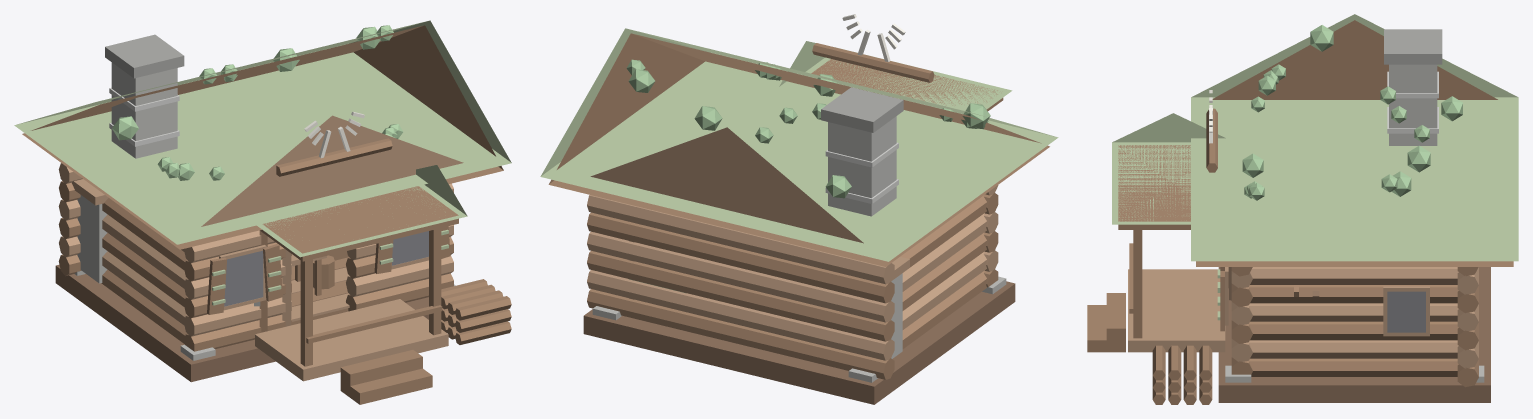
The model's file is myslivna.glb.
The picture shows the model from 3 angles, left to right: view 1: azimuth 30°, elevation 25°; view 2: azimuth 150°, elevation 25°; view 3: azimuth 270°, elevation 25°; orthographic projection. The views are drawn at different scales.
Parts seen in each view (by area): view 1: Myslivna_wood2, Myslivna_moss, Myslivna_wood, Myslivna_grey3, Myslivna_darkwood, Myslivna_dark, Myslivna_green2, Myslivna_grey4, Myslivna_grey, Myslivna_bone; view 2: Myslivna_moss, Myslivna_wood2, Myslivna_wood, Myslivna_darkwood, Myslivna_grey3, Myslivna_green2, Myslivna_grey4, Myslivna_grey, Myslivna_bone; view 3: Myslivna_moss, Myslivna_wood2, Myslivna_wood, Myslivna_darkwood, Myslivna_green2, Myslivna_grey3, Myslivna_grey4, Myslivna_dark, Myslivna_grey.
Part boxes in pixels (x1=…): Myslivna_wood2: x1=22, y1=25, x2=511, y2=404; Myslivna_moss: x1=14, y1=20, x2=511, y2=305; Myslivna_wood: x1=58, y1=115, x2=463, y2=381; Myslivna_grey3: x1=74, y1=62, x2=455, y2=360; Myslivna_darkwood: x1=55, y1=264, x2=428, y2=382; Myslivna_dark: x1=224, y1=231, x2=428, y2=306; Myslivna_green2: x1=112, y1=25, x2=403, y2=180; Myslivna_grey4: x1=105, y1=34, x2=260, y2=306; Myslivna_grey: x1=109, y1=87, x2=179, y2=146; Myslivna_bone: x1=304, y1=111, x2=364, y2=158; Myslivna_moss: x1=540, y1=28, x2=1058, y2=293; Myslivna_wood2: x1=548, y1=33, x2=1049, y2=379; Myslivna_wood: x1=587, y1=127, x2=998, y2=360; Myslivna_darkwood: x1=583, y1=281, x2=1015, y2=404; Myslivna_grey3: x1=592, y1=116, x2=1006, y2=382; Myslivna_green2: x1=626, y1=59, x2=990, y2=198; Myslivna_grey4: x1=821, y1=87, x2=903, y2=132; Myslivna_grey: x1=825, y1=142, x2=898, y2=203; Myslivna_bone: x1=842, y1=14, x2=905, y2=61; Myslivna_moss: x1=1112, y1=14, x2=1518, y2=320; Myslivna_wood2: x1=1087, y1=20, x2=1513, y2=404; Myslivna_wood: x1=1128, y1=267, x2=1478, y2=368; Myslivna_darkwood: x1=1218, y1=267, x2=1490, y2=402; Myslivna_green2: x1=1242, y1=25, x2=1462, y2=200; Myslivna_grey3: x1=1225, y1=64, x2=1484, y2=382; Myslivna_grey4: x1=1384, y1=29, x2=1442, y2=64; Myslivna_dark: x1=1387, y1=291, x2=1425, y2=332; Myslivna_grey: x1=1387, y1=71, x2=1438, y2=133.
Size of the model in its own units: 5.99 by 4.24 by 6.66.
